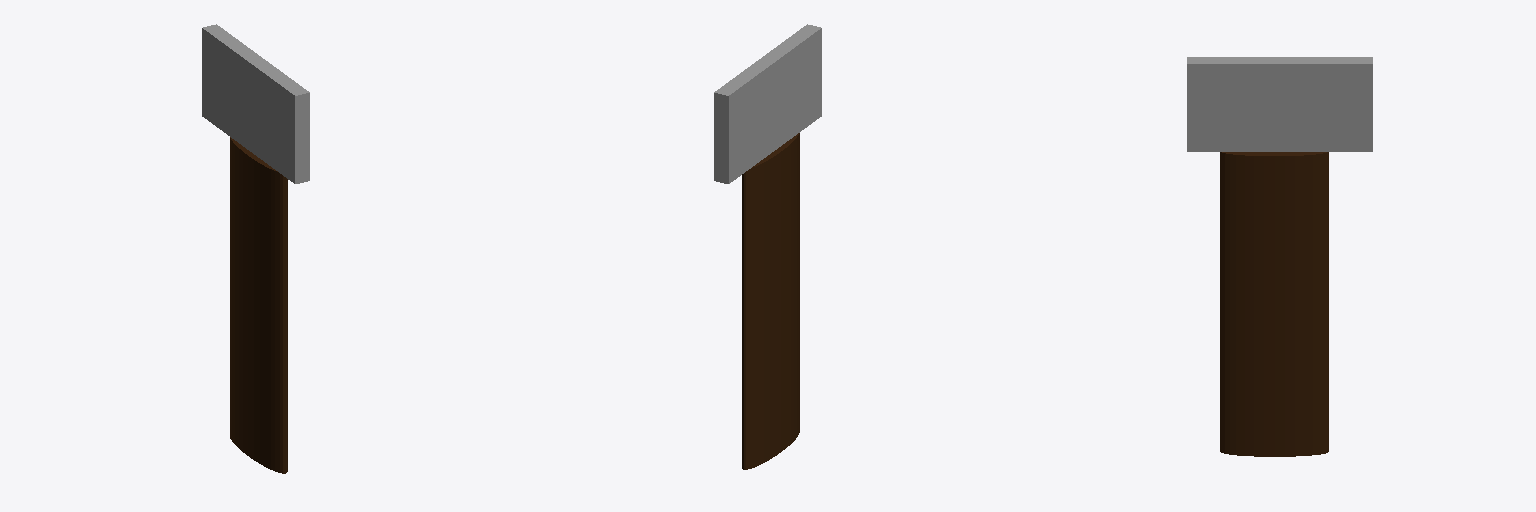
The model's file is woodaxe.obj.
The picture shows the model from 3 angles: view 1: azimuth 30°, elevation 25°; view 2: azimuth 150°, elevation 25°; view 3: azimuth 270°, elevation 25°; orthographic projection.
Parts seen in each view (by area): view 1: Cylinder, Cube_Cube.001; view 2: Cylinder, Cube_Cube.001; view 3: Cylinder, Cube_Cube.001.
Part boxes in pixels (left/top/right/bottom): Cylinder: left=230, top=137, right=287, bottom=473; Cube_Cube.001: left=202, top=24, right=309, bottom=183; Cylinder: left=742, top=133, right=799, bottom=469; Cube_Cube.001: left=714, top=24, right=821, bottom=183; Cylinder: left=1220, top=152, right=1328, bottom=456; Cube_Cube.001: left=1187, top=57, right=1372, bottom=151.
Size of the model in its own units: 0.1186 by 2.16 by 0.9304.